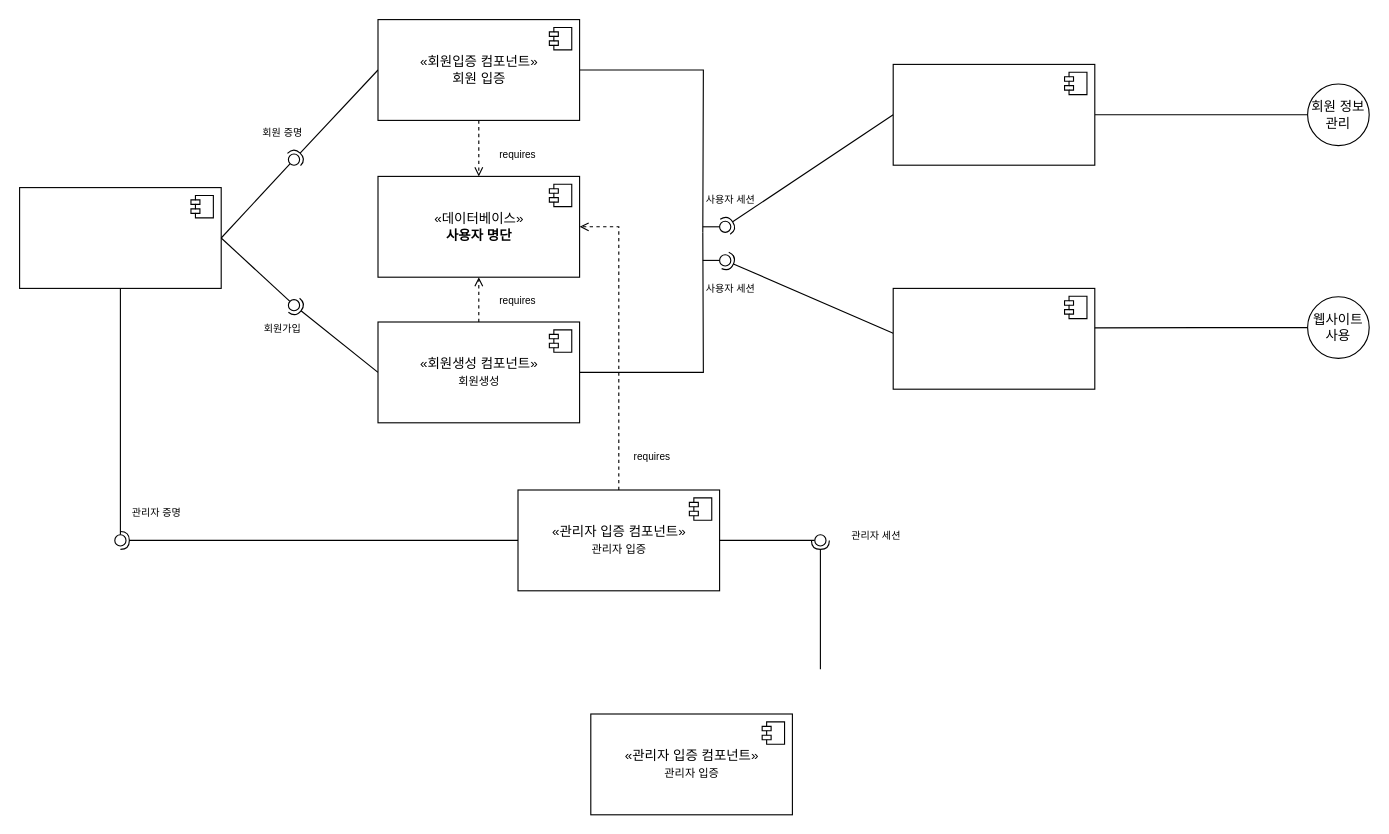
Image size: 1389x834. Some labels were removed from this diagram. The centre of each missing label's shape, as x and y in pixels:
"«Infrastructure» 회원정보 관리시스템" belongs at point (993, 114).
"«UI» 로그인/회원가입 페이지" belongs at point (119, 237).
"«UI» 홈페이지, 기사" belongs at point (993, 338).
